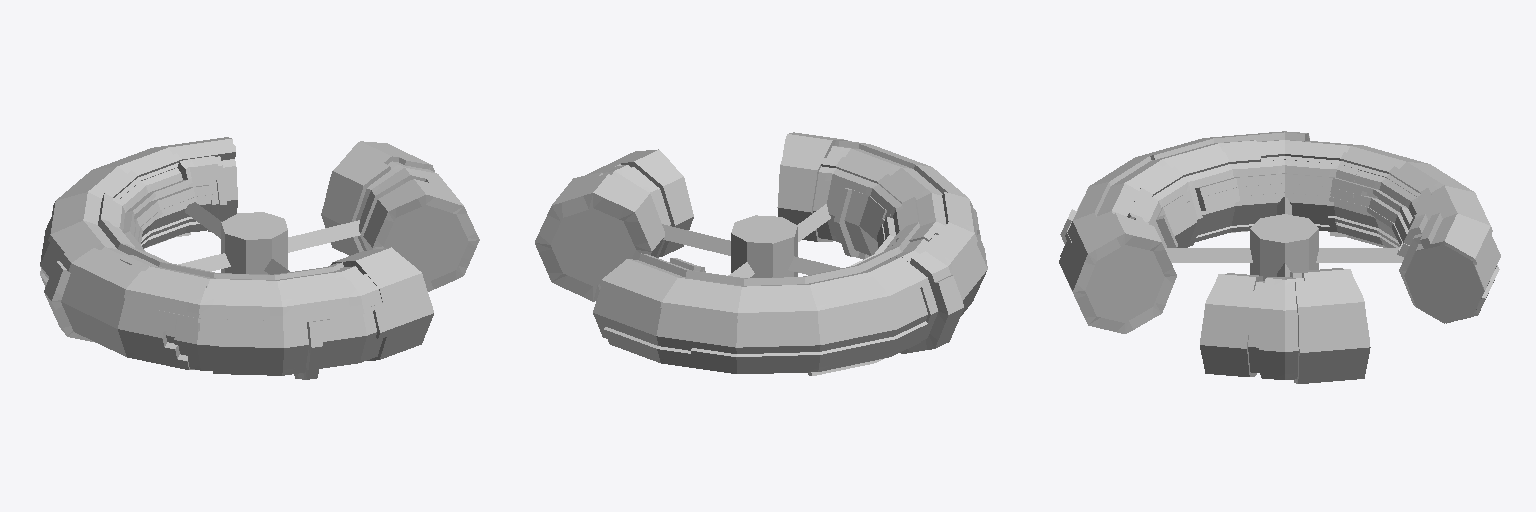
The model's file is Station.obj.
The picture shows the model from 3 angles: view 1: azimuth 30°, elevation 25°; view 2: azimuth 150°, elevation 25°; view 3: azimuth 270°, elevation 25°; orthographic projection.
Parts seen in each view (by area): view 1: Torus_RLExtr, Torus, Cylinder.002, Cylinder.001, Cylinder; view 2: Torus_RLExtr, Torus, Cylinder.002, Cylinder.001, Cylinder; view 3: Torus_RLExtr, Torus, Cylinder.002, Cylinder.
Part boxes in pixels (left/top/right/bottom): Torus_RLExtr: left=40, top=137, right=479, bottom=379; Torus: left=383, top=205, right=468, bottom=282; Cylinder.002: left=221, top=212, right=287, bottom=274; Cylinder.001: left=178, top=220, right=360, bottom=271; Cylinder: left=185, top=202, right=289, bottom=274; Torus_RLExtr: left=535, top=132, right=987, bottom=375; Torus: left=551, top=208, right=635, bottom=285; Cylinder.002: left=731, top=215, right=797, bottom=277; Cylinder.001: left=662, top=224, right=841, bottom=274; Cylinder: left=728, top=204, right=830, bottom=277; Torus_RLExtr: left=1059, top=131, right=1500, bottom=383; Torus: left=1085, top=245, right=1483, bottom=322; Cylinder.002: left=1250, top=214, right=1318, bottom=280; Cylinder: left=1165, top=248, right=1403, bottom=262.
Bounding box in the file's own units: 2.68 × 0.7033 × 2.56.